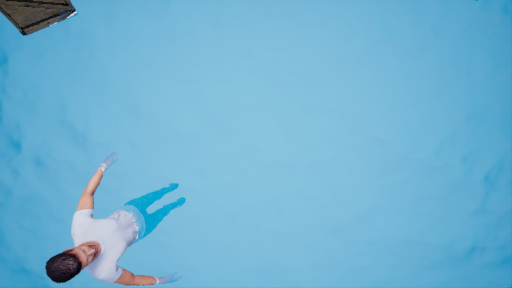person: (27, 157, 195, 284)
